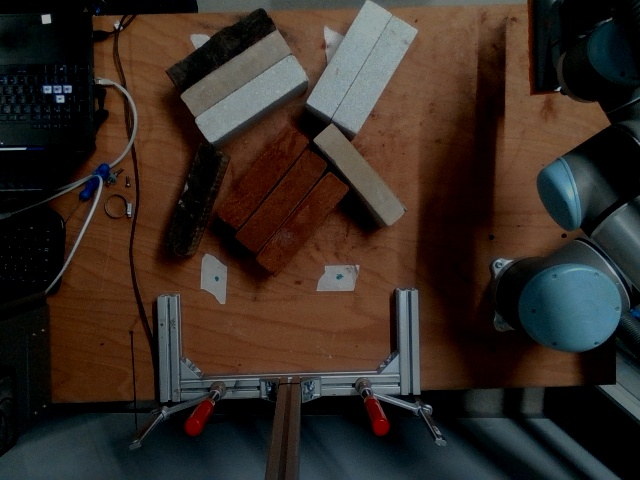brick-side: (255, 172, 346, 274), (235, 149, 326, 250), (216, 125, 307, 226), (197, 55, 304, 138), (179, 32, 286, 115), (317, 125, 405, 223), (336, 18, 415, 127), (309, 4, 388, 112), (168, 9, 273, 89), (166, 147, 219, 253)
